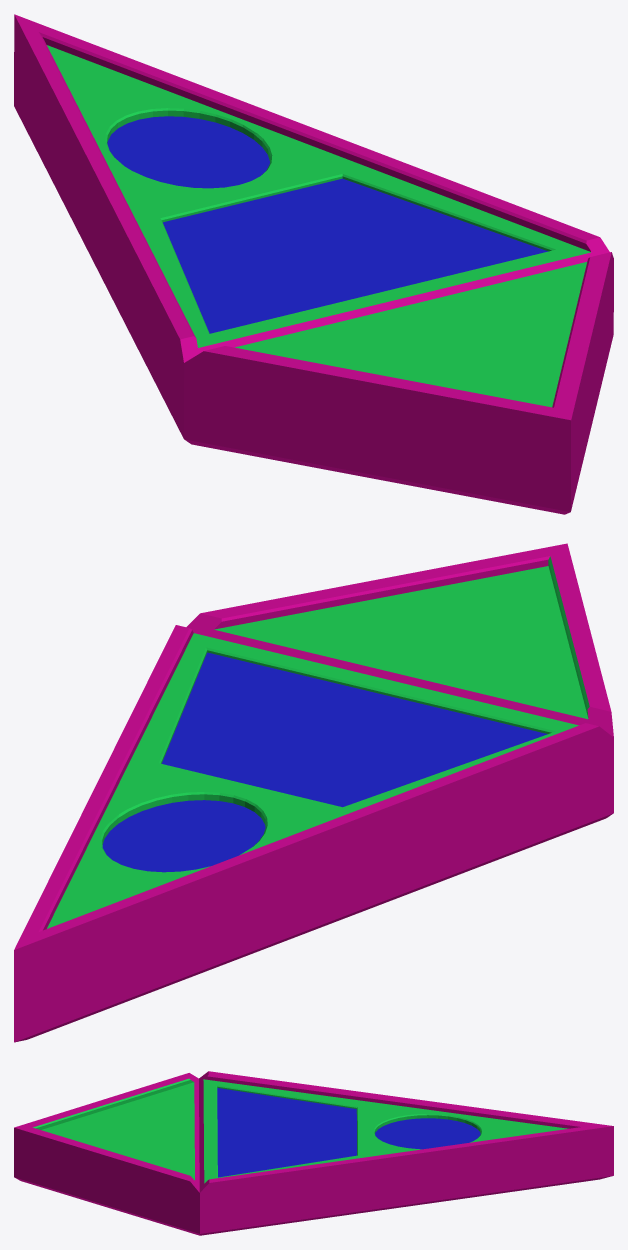
File: Shard.fbx
3 renders of one model, top to bottom at view 1: azimuth 30°, elevation 25°; view 2: azimuth 150°, elevation 25°; view 3: azimuth 270°, elevation 25°, orthographic. The views are drawn at different scales.
Visible parts, largest first — view 1: Shard (×3); view 2: Shard (×3); view 3: Shard (×3).
Boxes of the visible parts, x1=… form: Shard (×3): x1=14, y1=14, x2=613, y2=514; Shard (×3): x1=14, y1=543, x2=613, y2=1042; Shard (×3): x1=14, y1=1071, x2=613, y2=1235.
Bounding box in the file's own units: 44.95 × 9.98 × 100.
